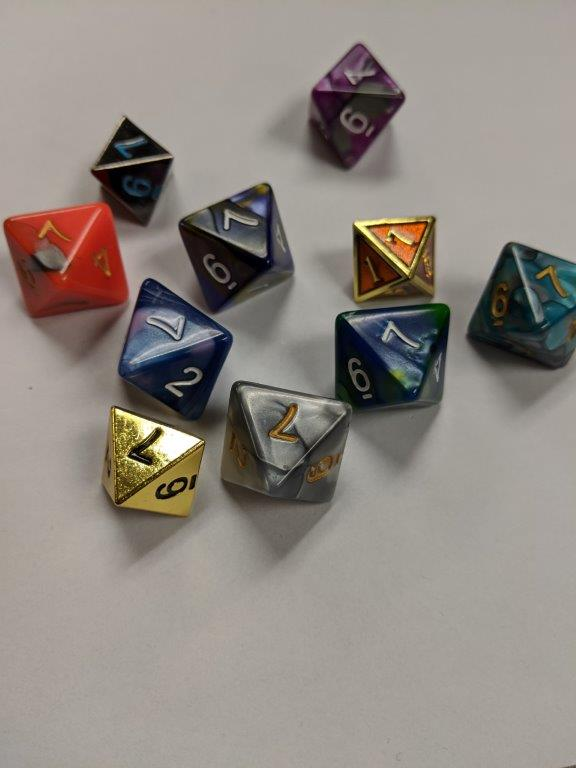d8-7: (217, 380, 354, 509), (117, 277, 232, 420), (176, 180, 295, 317), (464, 240, 576, 372), (5, 204, 129, 320), (334, 304, 451, 414), (308, 42, 404, 170), (100, 403, 204, 517), (93, 117, 174, 228), (352, 218, 437, 299)
